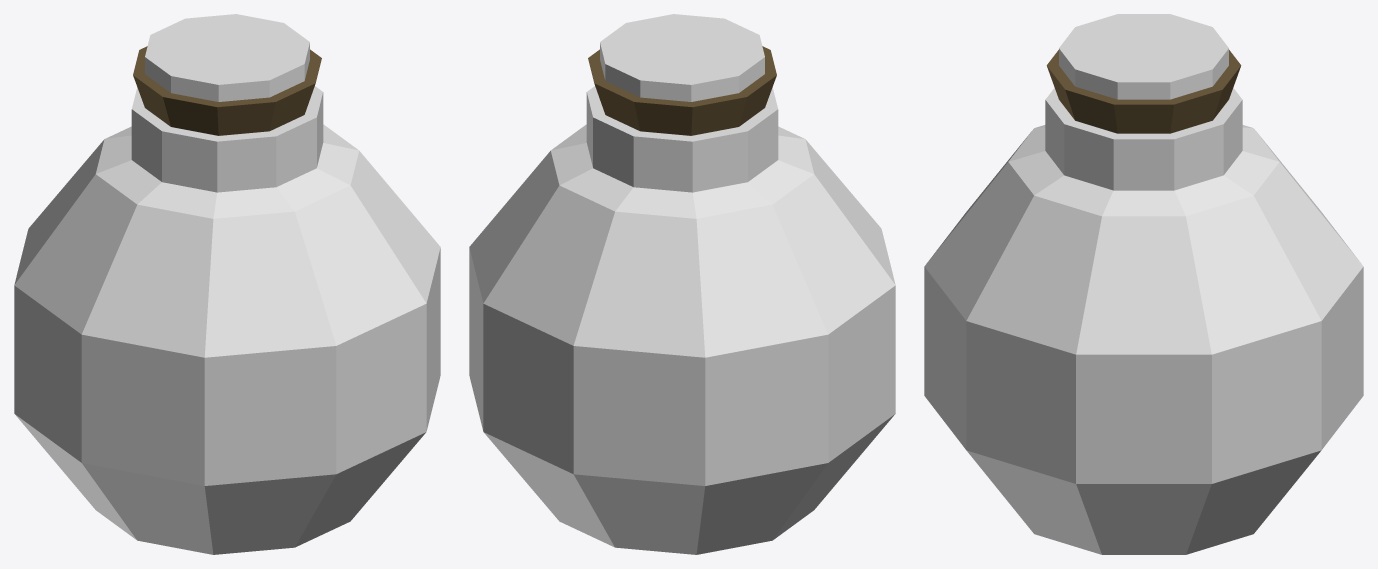
File: potion.fbx
The picture shows the model from 3 angles, left to right: view 1: azimuth 30°, elevation 25°; view 2: azimuth 150°, elevation 25°; view 3: azimuth 270°, elevation 25°; orthographic projection.
Visible parts, largest first — view 1: Bottle, Cylinder, Bouchon; view 2: Bottle, Cylinder, Bouchon; view 3: Bottle, Cylinder, Bouchon.
Boxes of the visible parts, left/top/right/bottom form: Bottle: left=14, top=86, right=440, bottom=554; Cylinder: left=145, top=14, right=309, bottom=135; Bouchon: left=133, top=46, right=321, bottom=135; Bottle: left=469, top=86, right=895, bottom=554; Cylinder: left=600, top=14, right=764, bottom=135; Bouchon: left=588, top=46, right=776, bottom=135; Bottle: left=924, top=88, right=1363, bottom=554; Cylinder: left=1059, top=14, right=1228, bottom=132; Bouchon: left=1046, top=50, right=1241, bottom=133.
Size of the model in its own units: 344 by 447 by 361.
